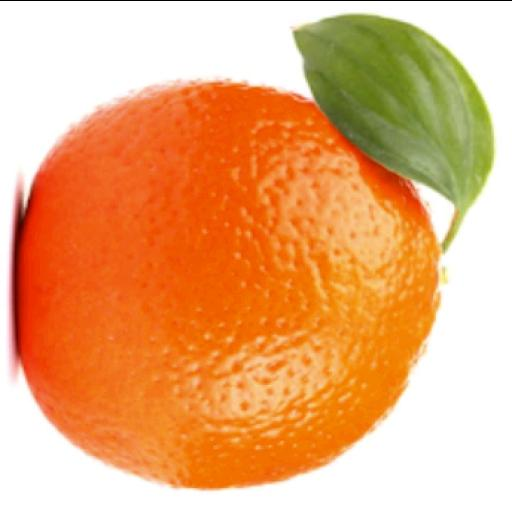orange: (17, 82, 439, 489)
